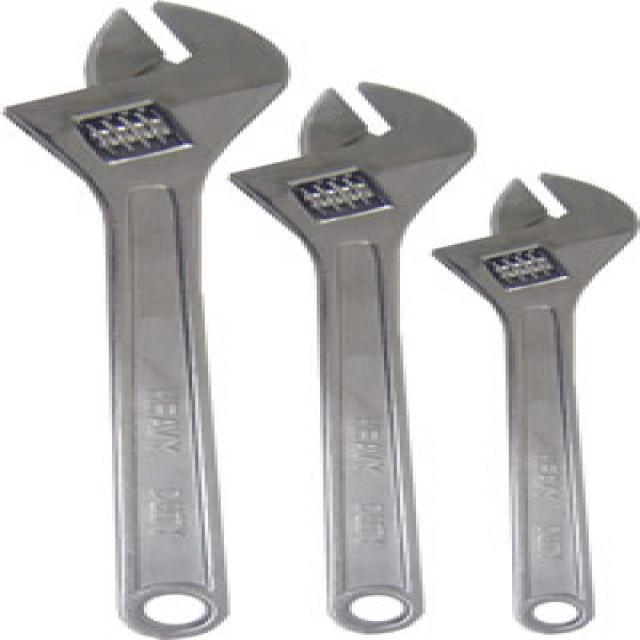wrench: (0, 0, 294, 640), (224, 77, 489, 640), (426, 165, 640, 640)
